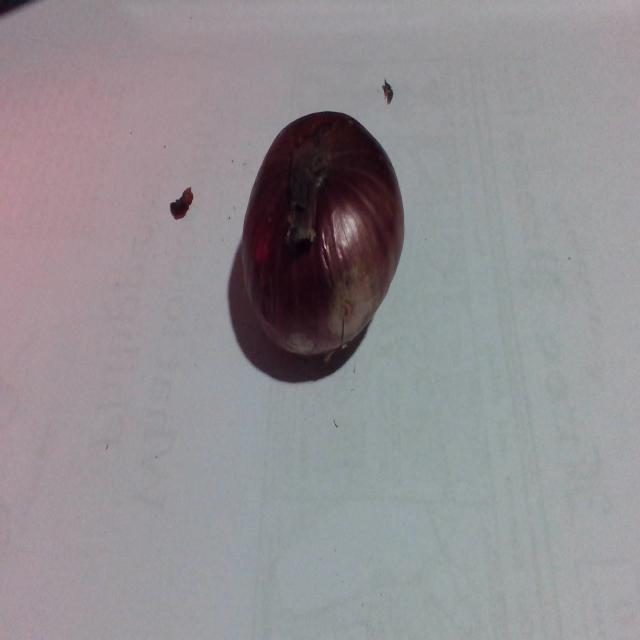onion: (229, 77, 429, 411)
